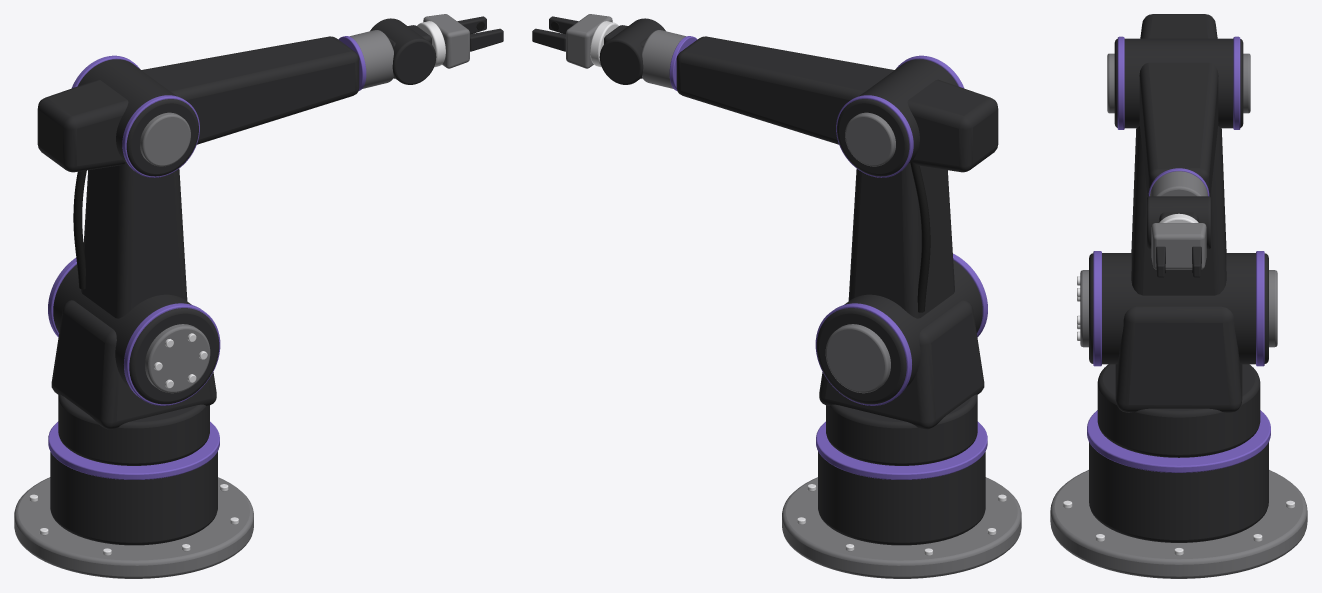
File: arm.glb
3 views of the same model, side by side, from view 1: azimuth 30°, elevation 25°; view 2: azimuth 150°, elevation 25°; view 3: azimuth 270°, elevation 25° (orthographic). The views are drawn at different scales.
Visible parts, largest first — view 1: upper_arm, forearm, base_pedestal, base_plate, shoulder_housing, turret, elbow_counterweight, shoulder_motor, elbow_motor, shoulder_cap_l, base_ring, wrist_knuckle (+6 smaller); view 2: forearm, upper_arm, base_pedestal, base_plate, shoulder_housing, turret, elbow_counterweight, shoulder_motor, elbow_motor, shoulder_cap_r, base_ring, wrist_knuckle (+6 smaller); view 3: base_pedestal, shoulder_housing, base_plate, forearm, turret, shoulder_motor, upper_arm, elbow_motor, base_ring, gripper_body, elbow_counterweight, wrist_knuckle (+9 smaller).
Boxes of the visible parts, box(x1,y1,x2,y2) form: upper_arm: box(81, 163, 187, 318); forearm: box(141, 36, 359, 144); base_pedestal: box(50, 451, 217, 545); base_plate: box(14, 477, 253, 578); shoulder_housing: box(51, 300, 216, 429); turret: box(58, 394, 209, 465); elbow_counterweight: box(37, 79, 128, 172); shoulder_motor: box(53, 264, 219, 404); elbow_motor: box(78, 59, 198, 176); shoulder_cap_l: box(145, 324, 210, 393); base_ring: box(48, 421, 219, 479); wrist_knuckle: box(370, 18, 436, 84); forearm: box(676, 36, 894, 144); upper_arm: box(848, 163, 954, 318); base_pedestal: box(818, 451, 985, 545); base_plate: box(782, 477, 1021, 578); shoulder_housing: box(819, 300, 984, 429); turret: box(826, 394, 977, 465); elbow_counterweight: box(907, 79, 998, 172); shoulder_motor: box(816, 260, 982, 404); elbow_motor: box(837, 59, 957, 176); shoulder_cap_r: box(825, 324, 890, 393); base_ring: box(816, 421, 987, 479); wrist_knuckle: box(599, 18, 665, 84); base_pedestal: box(1089, 442, 1268, 542); shoulder_housing: box(1115, 306, 1242, 412); base_plate: box(1050, 470, 1307, 578); forearm: box(1139, 62, 1218, 196); turret: box(1097, 364, 1260, 457); shoulder_motor: box(1089, 253, 1268, 364); upper_arm: box(1131, 126, 1226, 295); elbow_motor: box(1114, 38, 1243, 128); base_ring: box(1087, 410, 1270, 472); gripper_body: box(1151, 223, 1206, 269); elbow_counterweight: box(1140, 14, 1217, 38); wrist_knuckle: box(1147, 196, 1210, 249).
Size of the model in its own units: 1.34 by 1.25 by 0.6.
